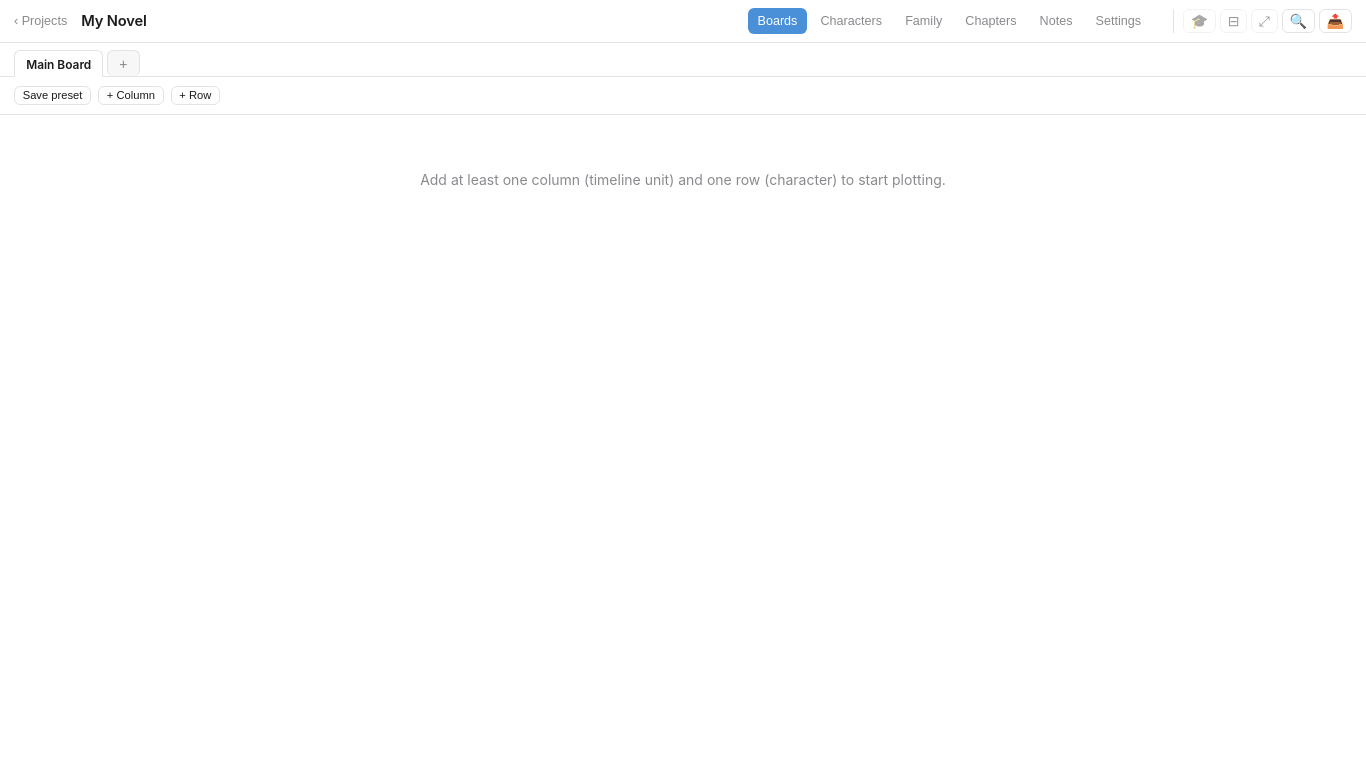
Test: the Family tab › draws a node per character, labelled the way the tree shows them
This screenshot has width=1366, height=768.
Click the button "Family". click: (924, 21)
box: [895,8,952,34]
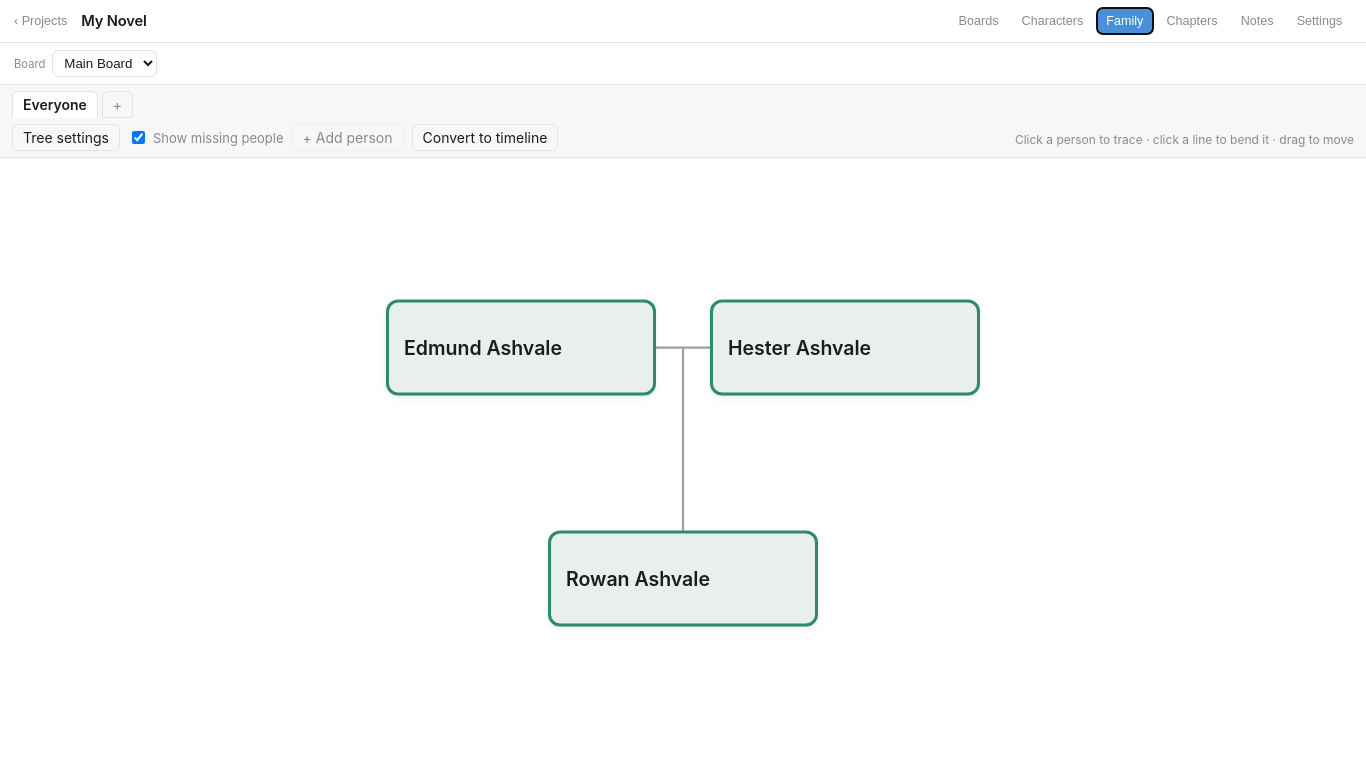
Check: the text "Edmund Ashvale" is shown, box [404,336,562,360]
Check: the text "Hester Ashvale" is shown, box [728,336,871,360]
Check: the text "Rowan Ashvale" is shown, box [566,567,710,591]
